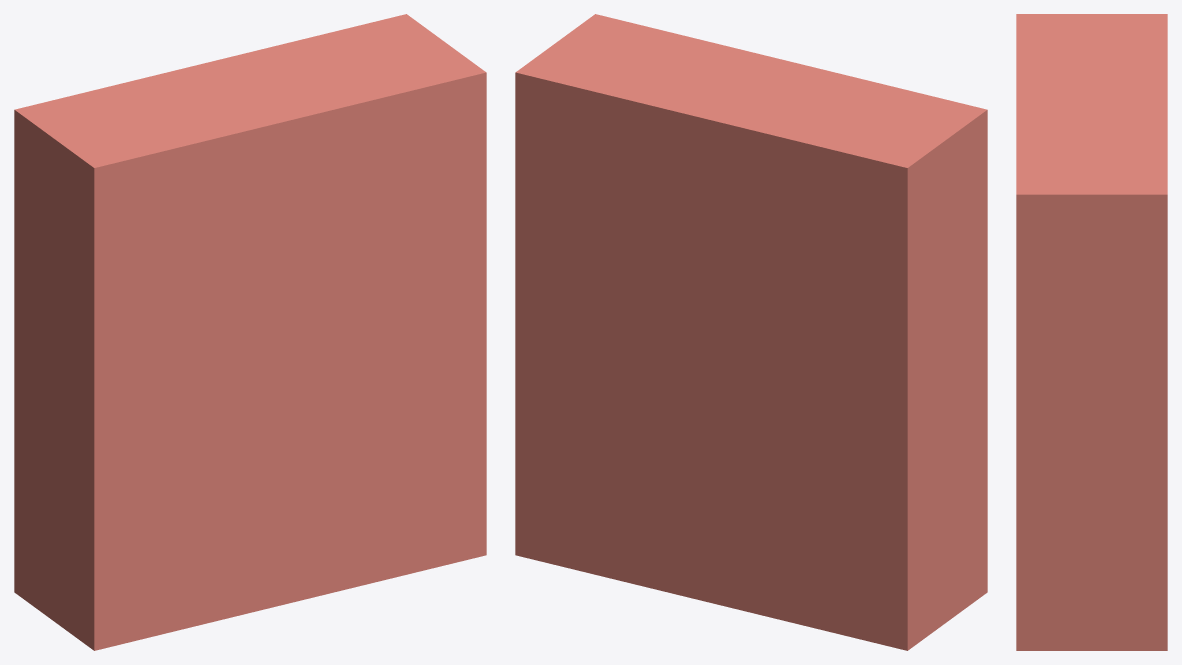
File: product_snacks.glb
The picture shows the model from 3 angles, left to right: view 1: azimuth 30°, elevation 25°; view 2: azimuth 150°, elevation 25°; view 3: azimuth 270°, elevation 25°; orthographic projection. The views are drawn at different scales.
Visible parts, largest first — view 1: body.008; view 2: body.008; view 3: body.008.
Boxes of the visible parts, x1,y1,x2,y2 form: body.008: (14,14,486,650); body.008: (515,14,987,650); body.008: (1016,14,1167,650).
Size of the model in its own units: 0.34 by 0.4 by 0.12.
